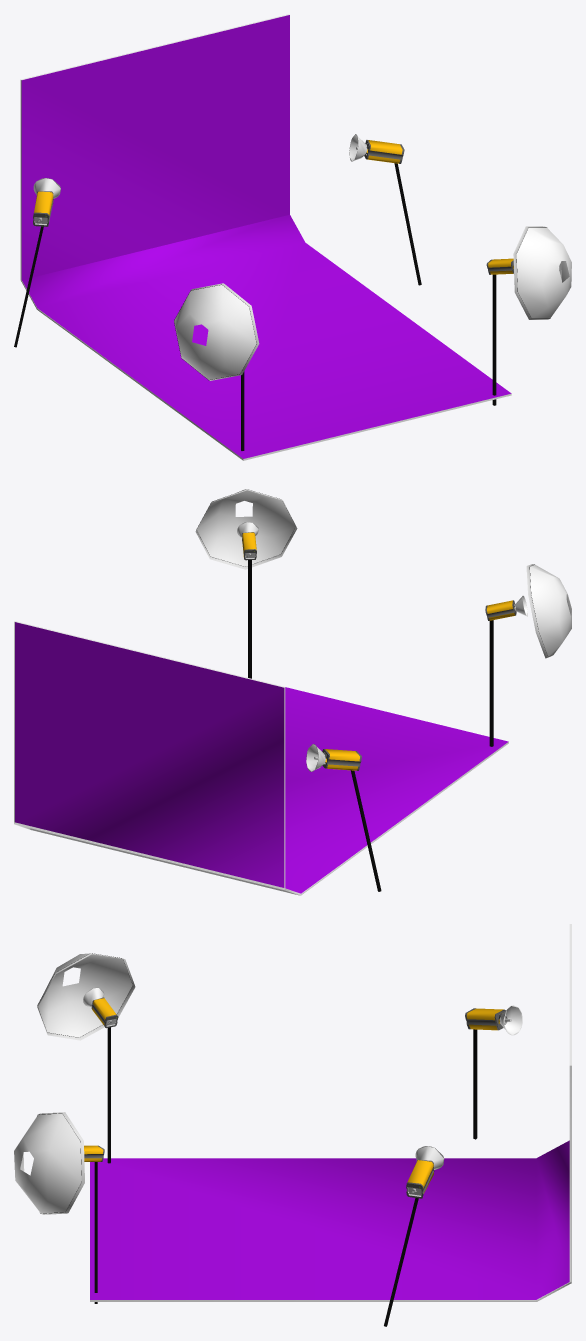
3 views of the same model, one above another, from view 1: azimuth 30°, elevation 25°; view 2: azimuth 150°, elevation 25°; view 3: azimuth 270°, elevation 25° (orthographic). The views are drawn at different scales.
Parts seen in each view (by area): view 1: Mesh11_Color_J06_0, Mesh6_Color_000_0, Mesh3_Color_000_0, Mesh11_FrontColor_0, Mesh2_Color_M09_0; view 2: Mesh11_Color_J06_0, Mesh3_Color_000_0, Mesh11_FrontColor_0, Mesh6_Color_000_0, Mesh5_Color_M09_0, Mesh3_Color_002_0, Mesh8_Color_M09_0; view 3: Mesh11_Color_J06_0, Mesh3_Color_000_0, Mesh6_Color_000_0, Mesh11_FrontColor_0, Mesh6_Color_002_0, Mesh8_Color_M09_0, Mesh5_Color_M09_0, Mesh3_Color_002_0, Mesh2_Color_M09_0, Mesh10_Color_M09_0.
Boxes of the visible parts, bbox=[...] form: Mesh11_Color_J06_0: bbox=[21, 15, 511, 458]; Mesh6_Color_000_0: bbox=[174, 285, 256, 379]; Mesh3_Color_000_0: bbox=[516, 227, 571, 318]; Mesh11_FrontColor_0: bbox=[20, 14, 511, 460]; Mesh2_Color_M09_0: bbox=[492, 274, 496, 405]; Mesh11_Color_J06_0: bbox=[15, 622, 508, 893]; Mesh3_Color_000_0: bbox=[196, 489, 295, 566]; Mesh11_FrontColor_0: bbox=[14, 621, 508, 895]; Mesh6_Color_000_0: bbox=[530, 564, 571, 656]; Mesh5_Color_M09_0: bbox=[489, 620, 493, 746]; Mesh3_Color_002_0: bbox=[195, 489, 297, 569]; Mesh8_Color_M09_0: bbox=[350, 770, 381, 891]; Mesh11_Color_J06_0: bbox=[90, 1140, 569, 1299]; Mesh3_Color_000_0: bbox=[14, 1113, 81, 1213]; Mesh6_Color_000_0: bbox=[38, 953, 132, 1037]; Mesh11_FrontColor_0: bbox=[90, 924, 571, 1301]; Mesh6_Color_002_0: bbox=[37, 953, 135, 1040]; Mesh8_Color_M09_0: bbox=[473, 1029, 477, 1139]; Mesh5_Color_M09_0: bbox=[107, 1027, 110, 1163]; Mesh3_Color_002_0: bbox=[22, 1112, 84, 1214]; Mesh2_Color_M09_0: bbox=[94, 1162, 97, 1303]; Mesh10_Color_M09_0: bbox=[384, 1198, 418, 1326].
Size of the model in its own units: 164 by 95.31 by 197.
